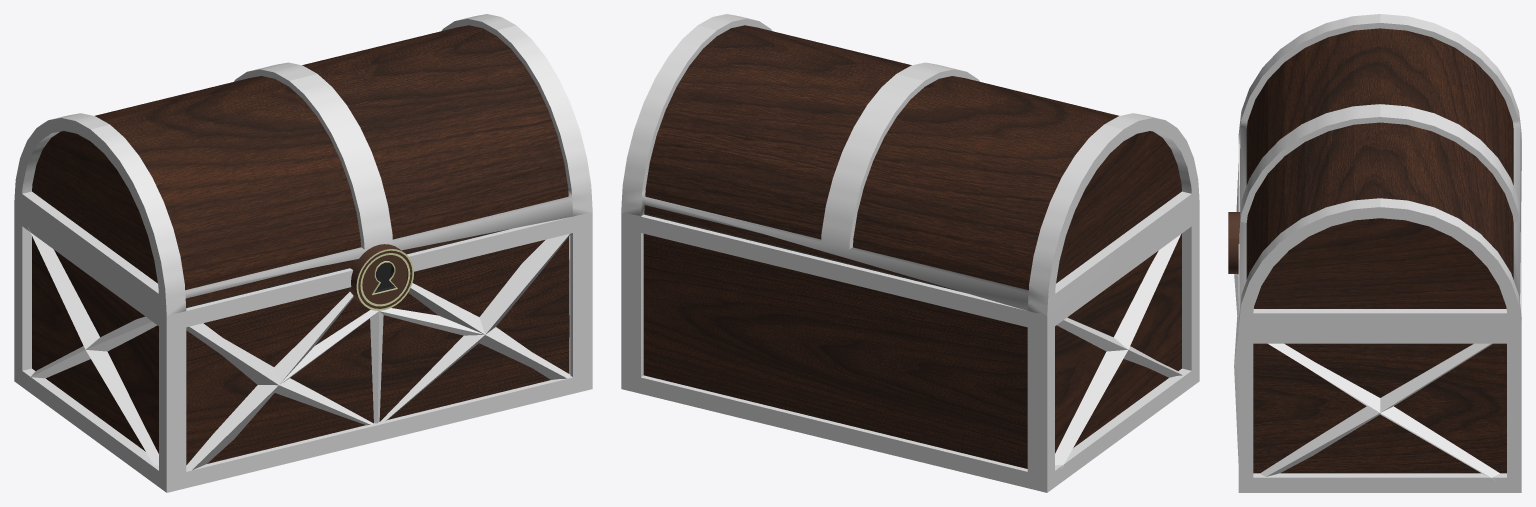
The model's file is Cofre.fbx.
The picture shows the model from 3 angles, left to right: view 1: azimuth 30°, elevation 25°; view 2: azimuth 150°, elevation 25°; view 3: azimuth 270°, elevation 25°; orthographic projection. The views are drawn at different scales.
Visible parts, largest first — view 1: Cylinder, Cube, Cube.003, Cylinder.002, Cube.002, Cylinder.004, Cylinder.001; view 2: Cylinder, Cube, Cube.003, Cylinder.002, Cylinder.004, Cube.002; view 3: Cylinder, Cube, Cylinder.002, Cube.003, Cube.002, Cylinder.004, Cylinder.001.
Boxes of the visible parts, x1,y1,x2,y2 form: Cylinder: (32, 25, 568, 306); Cube: (32, 229, 569, 464); Cube.003: (14, 204, 592, 492); Cylinder.002: (14, 14, 592, 315); Cube.002: (28, 228, 570, 470); Cylinder.004: (234, 62, 392, 249); Cylinder.001: (349, 244, 413, 310); Cylinder: (644, 25, 1181, 289); Cube: (643, 213, 1181, 468); Cube.003: (621, 204, 1199, 492); Cylinder.002: (621, 14, 1199, 315); Cylinder.004: (821, 62, 979, 249); Cube.002: (1055, 234, 1182, 468); Cylinder: (1246, 28, 1513, 308); Cube: (1253, 343, 1506, 473); Cylinder.002: (1238, 14, 1521, 328); Cube.003: (1238, 144, 1521, 492); Cube.002: (1234, 164, 1499, 477); Cylinder.004: (1240, 104, 1519, 222); Cylinder.001: (1228, 212, 1240, 273).
Size of the model in its own units: 129 by 86.9 by 80.83.
5 materials, 1 textured.
